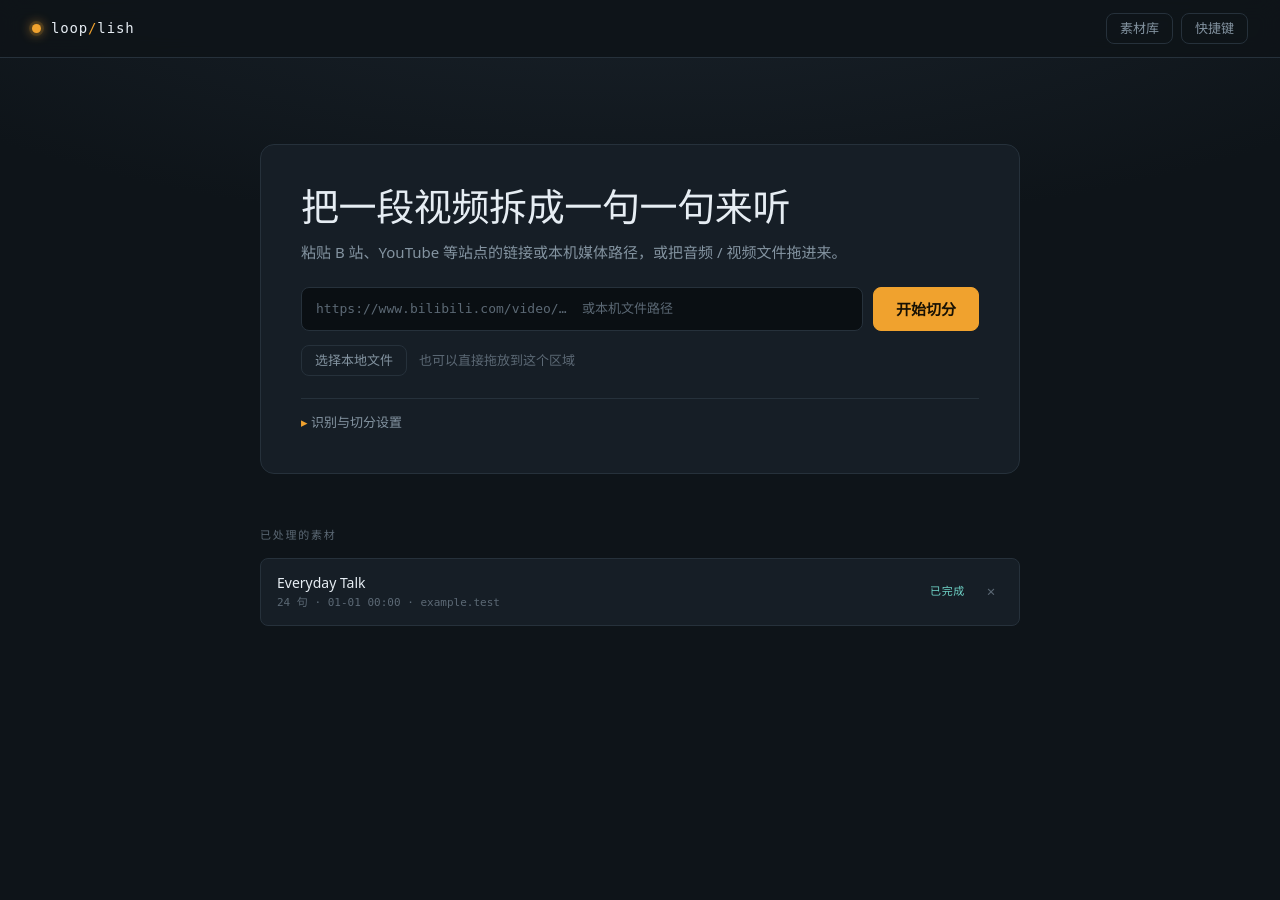
Test: job list › returns focus to the card's delete button when deletion fails
This screenshot has width=1280, height=900.
Click the button named "删除 Everyday Talk".
click(991, 592)  # box top-left (979, 580), bottom-right (1003, 604)
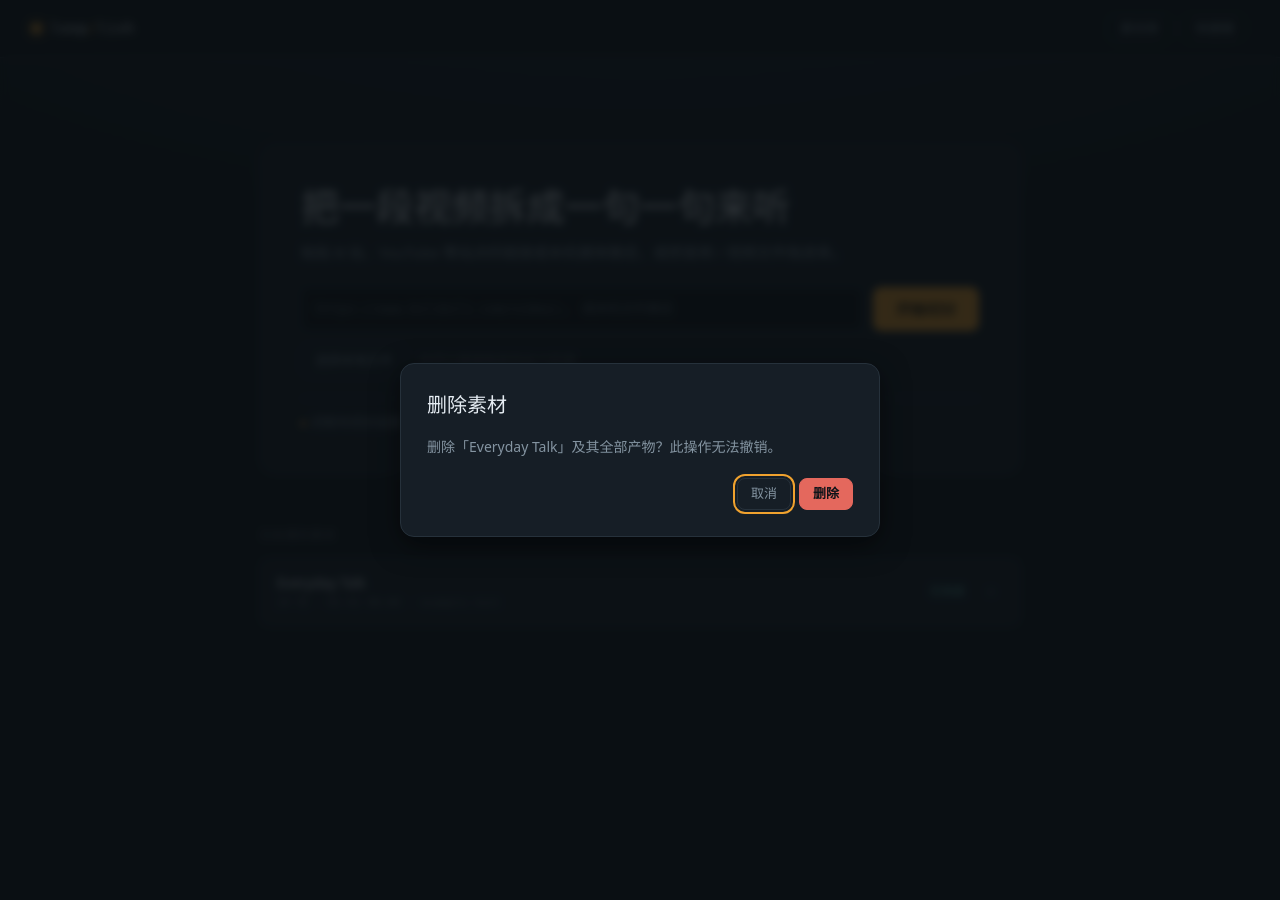
Click the button "删除".
click(826, 494)  # box top-left (799, 478), bottom-right (853, 510)
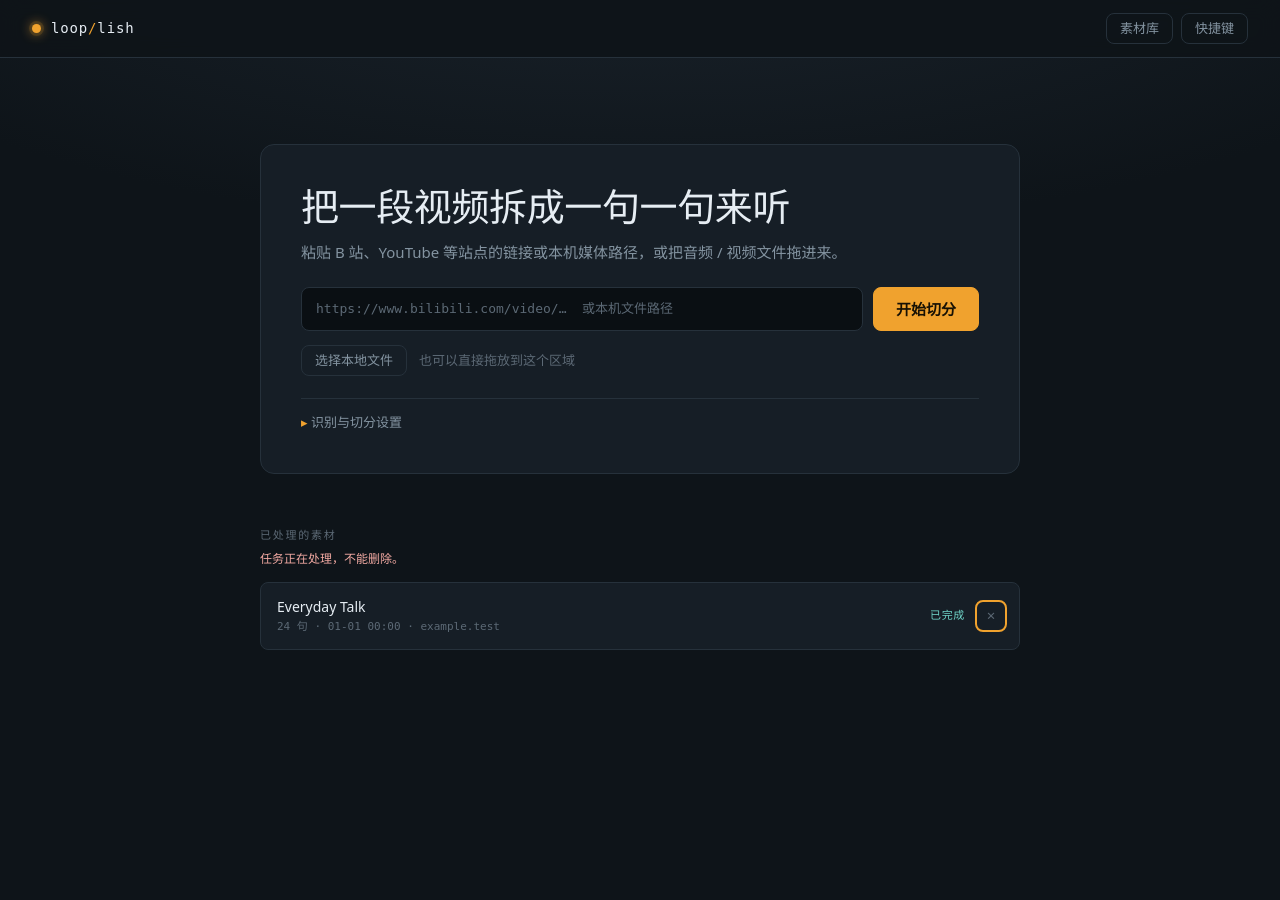
Expected: the button named "删除 Everyday Talk" is enabled, top-left (979, 604), bottom-right (1003, 628)
Expected: the message reads "任务正在处理，不能删除。", top-left (260, 550), bottom-right (404, 567)
